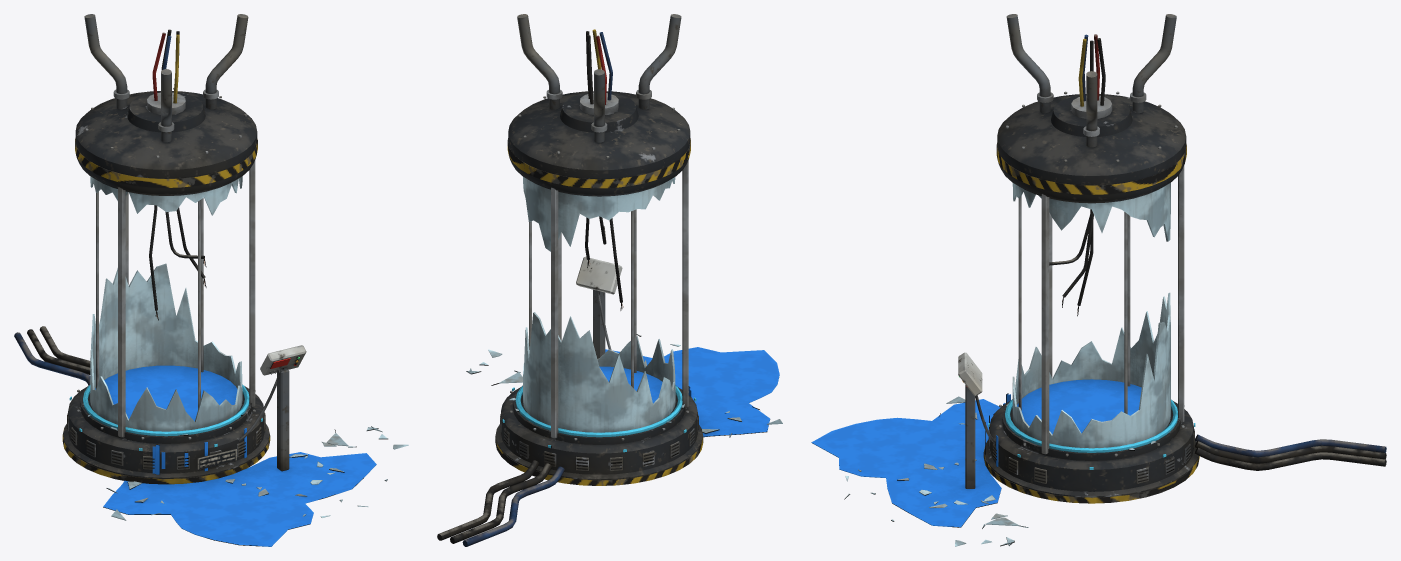
File: ContainmentTankBroken.fbx
3 views of the same model, side by side, from view 1: azimuth 30°, elevation 25°; view 2: azimuth 150°, elevation 25°; view 3: azimuth 270°, elevation 25° (orthographic). The views are drawn at different scales.
Visible parts, largest first — view 1: Frame, LiquidBlue, Glass, GlowBlue; view 2: Frame, Glass, LiquidBlue, GlowBlue; view 3: Frame, LiquidBlue, Glass, GlowBlue.
Boxes of the visible parts, x1=… form: Frame: x1=14, y1=14, x2=306, y2=484; LiquidBlue: x1=95, y1=365, x2=376, y2=546; Glass: x1=87, y1=176, x2=408, y2=520; GlowBlue: x1=69, y1=384, x2=262, y2=450; Frame: x1=437, y1=14, x2=703, y2=546; Glass: x1=466, y1=177, x2=782, y2=437; LiquidBlue: x1=599, y1=347, x2=779, y2=437; GlowBlue: x1=502, y1=385, x2=696, y2=452; Frame: x1=958, y1=14, x2=1386, y2=503; LiquidBlue: x1=811, y1=379, x2=1141, y2=527; Glass: x1=844, y1=182, x2=1170, y2=546; GlowBlue: x1=988, y1=399, x2=1195, y2=469.
Size of the model in its own units: 8.34 by 11.02 by 13.51.
Materials: 1 (1 with a texture image).
